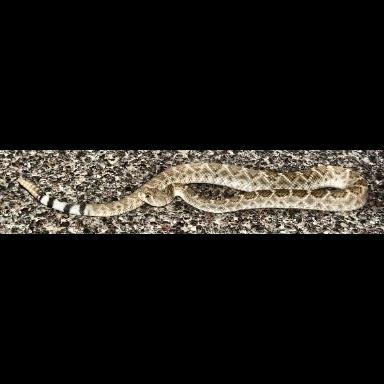snake: (0, 149, 384, 234)
